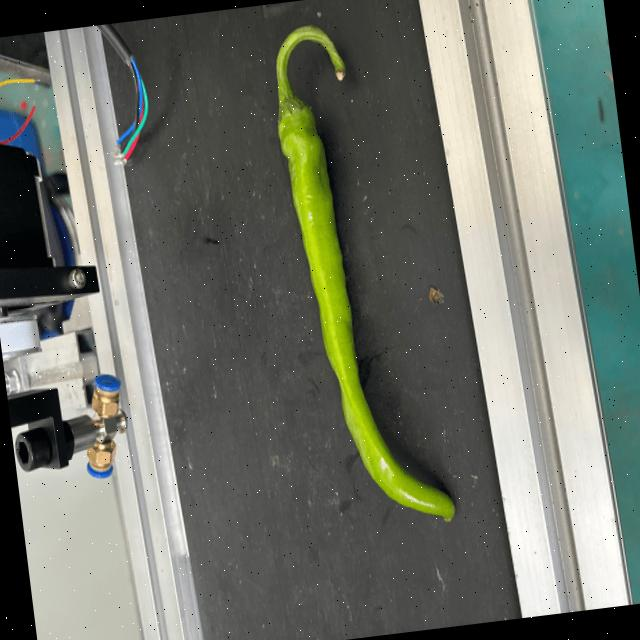chili: (274, 90, 458, 525)
